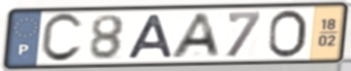7: (225, 9, 264, 60)
8: (87, 14, 128, 61)
A: (167, 12, 224, 60), (125, 14, 176, 60)
C: (38, 11, 85, 65)
O: (265, 8, 309, 60)
